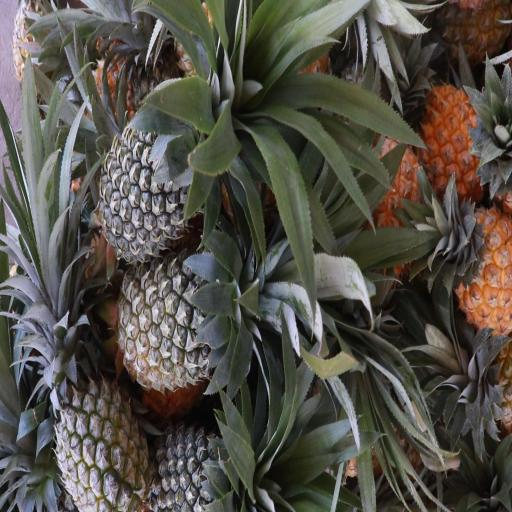------------------------------: (43, 351, 150, 512)
Pineapple - v8 v1: (402, 84, 512, 198), (438, 206, 512, 326)
